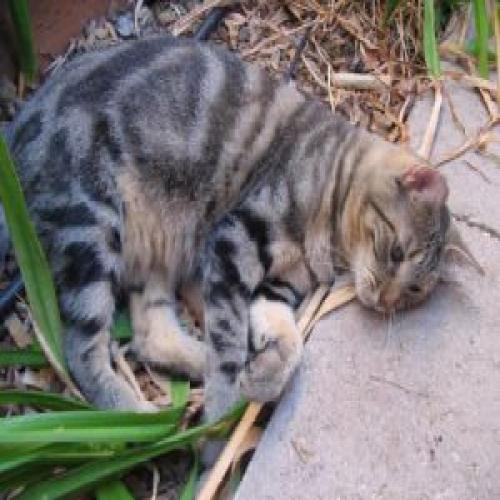cat-face: (336, 145, 474, 322)
